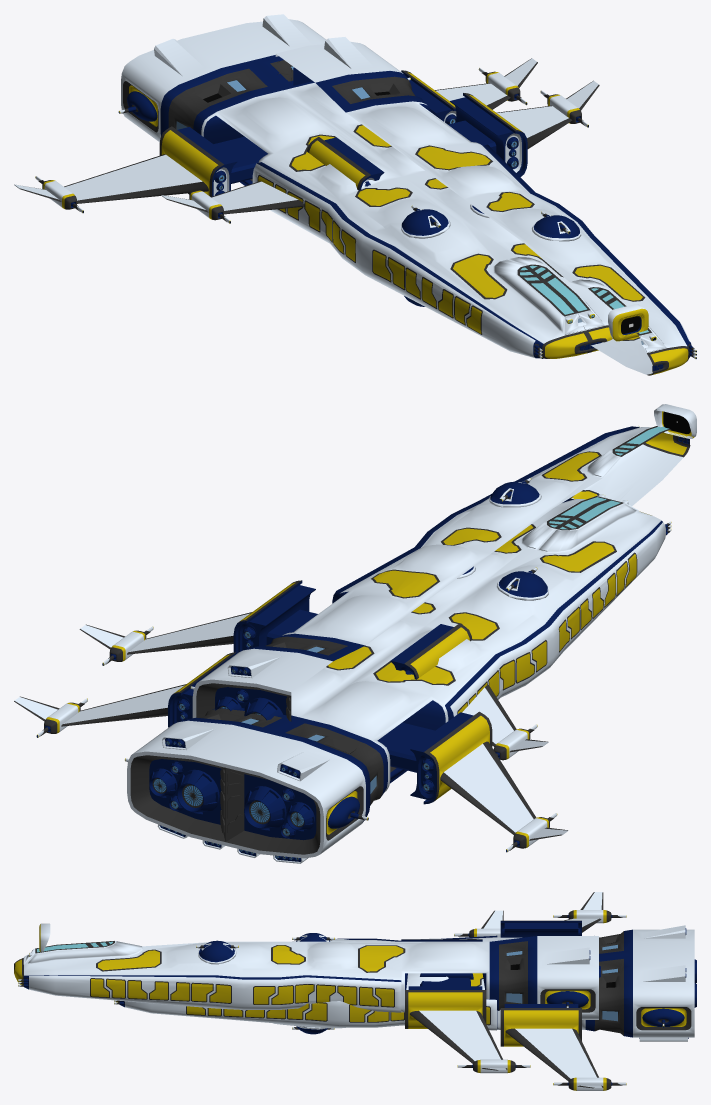
The model's file is Chung-Freese.glb.
The picture shows the model from 3 angles, top to bottom: view 1: azimuth 30°, elevation 25°; view 2: azimuth 150°, elevation 25°; view 3: azimuth 270°, elevation 25°; orthographic projection. The views are drawn at different scales.
Visible parts, largest first — view 1: _C-Group#1 (Loose Mesh).001, Group#1, _C-Group#1 (Loose Mesh), Group#2 (×2), _C-Group#2 (Loose Mesh).001, _C-Group#2 (Loose Mesh), C-SimpleDome02.002, SimpleDome02, Group#6, _C-Group#6 (Loose Mesh).001; view 2: _C-Group#1 (Loose Mesh).001, Group#1, _C-Group#1 (Loose Mesh), _C-Group#2 (Loose Mesh).001, Group#2 (×2), _C-Group#2 (Loose Mesh), C-Group#30.006, C-Group#30.033, C-SimpleDome02.002, SimpleDome02; view 3: Group#1, _C-Group#1 (Loose Mesh), Group#2 (×2), _C-Group#2 (Loose Mesh), _C-Group#1 (Loose Mesh).001, _C-Group#2 (Loose Mesh).001, SimpleDome02, Group#6, _C-Group#6 (Loose Mesh), _C-Group#6 (Loose Mesh).001.
Boxes of the visible parts, x1,y1,x2,y2 form: _C-Group#1 (Loose Mesh).001: [121, 31, 590, 358]; Group#1: [275, 37, 691, 375]; _C-Group#1 (Loose Mesh): [214, 14, 612, 352]; Group#2 (×2): [161, 80, 599, 214]; _C-Group#2 (Loose Mesh).001: [14, 126, 267, 203]; _C-Group#2 (Loose Mesh): [401, 58, 537, 122]; C-SimpleDome02.002: [400, 209, 450, 238]; SimpleDome02: [531, 215, 581, 241]; Group#6: [189, 190, 223, 220]; _C-Group#6 (Loose Mesh).001: [42, 180, 76, 209]; _C-Group#1 (Loose Mesh).001: [225, 499, 665, 863]; Group#1: [192, 426, 690, 721]; _C-Group#1 (Loose Mesh): [127, 495, 610, 849]; _C-Group#2 (Loose Mesh).001: [377, 711, 568, 840]; Group#2 (×2): [79, 580, 548, 752]; _C-Group#2 (Loose Mesh): [14, 652, 236, 727]; C-Group#30.006: [177, 769, 219, 814]; C-Group#30.033: [244, 786, 286, 830]; C-SimpleDome02.002: [496, 571, 548, 600]; SimpleDome02: [489, 481, 541, 507]; Group#1: [14, 936, 598, 1019]; _C-Group#1 (Loose Mesh): [116, 953, 694, 1041]; Group#2 (×2): [401, 910, 507, 1070]; _C-Group#2 (Loose Mesh): [500, 1004, 603, 1088]; _C-Group#1 (Loose Mesh).001: [292, 925, 694, 957]; _C-Group#2 (Loose Mesh).001: [500, 892, 603, 937]; SimpleDome02: [197, 940, 236, 964]; Group#6: [473, 1059, 515, 1073]; _C-Group#6 (Loose Mesh): [568, 1077, 611, 1090]; _C-Group#6 (Loose Mesh).001: [568, 910, 611, 923].
Size of the model in its own units: 364 by 78.59 by 537.
